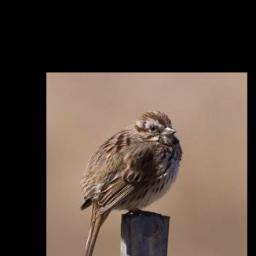Sparrow: (78, 109, 184, 256)
